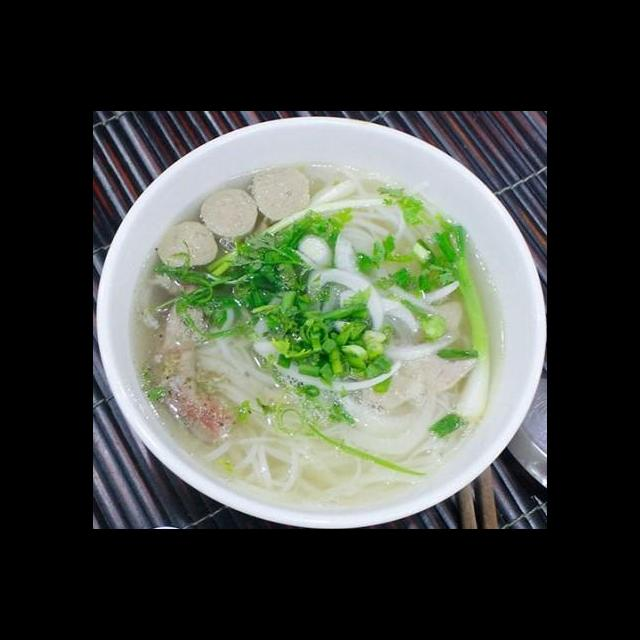banh pho: (196, 379, 463, 512), (313, 173, 442, 288), (191, 315, 272, 428)
